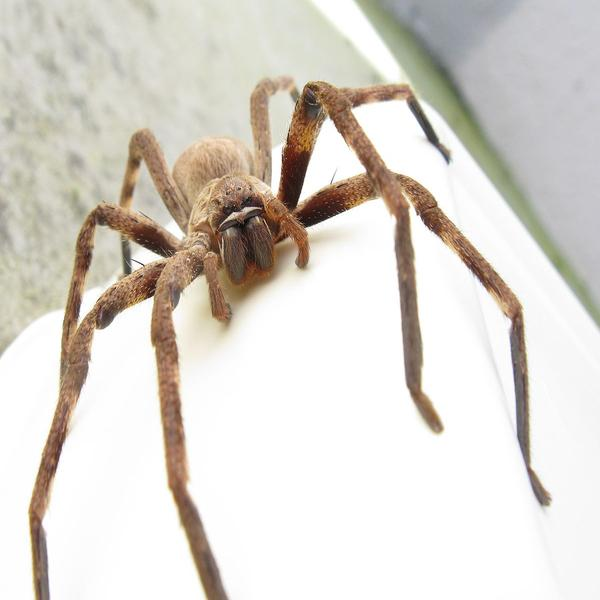Huntsman Spider: (37, 73, 547, 598)
